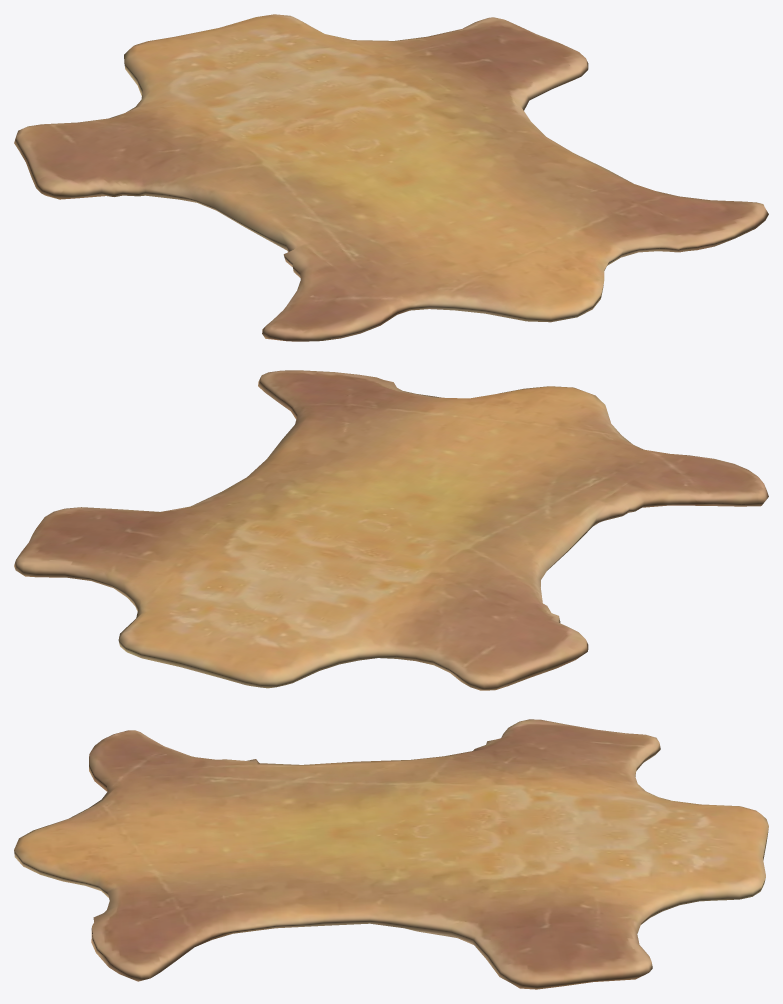
3 renders of one model, top to bottom at view 1: azimuth 30°, elevation 25°; view 2: azimuth 150°, elevation 25°; view 3: azimuth 270°, elevation 25°, orthographic.
Parts seen in each view (by area): view 1: SM_Fleece_01_LOD0; view 2: SM_Fleece_01_LOD0; view 3: SM_Fleece_01_LOD0.
Part boxes in pixels (bbox=[...]): SM_Fleece_01_LOD0: bbox=[14, 14, 768, 341]; SM_Fleece_01_LOD0: bbox=[14, 370, 768, 690]; SM_Fleece_01_LOD0: bbox=[14, 719, 768, 989].
Bounding box in the file's own units: 0.6461 × 0.0442 × 0.7842.
Materials: 1 (1 with a texture image).
